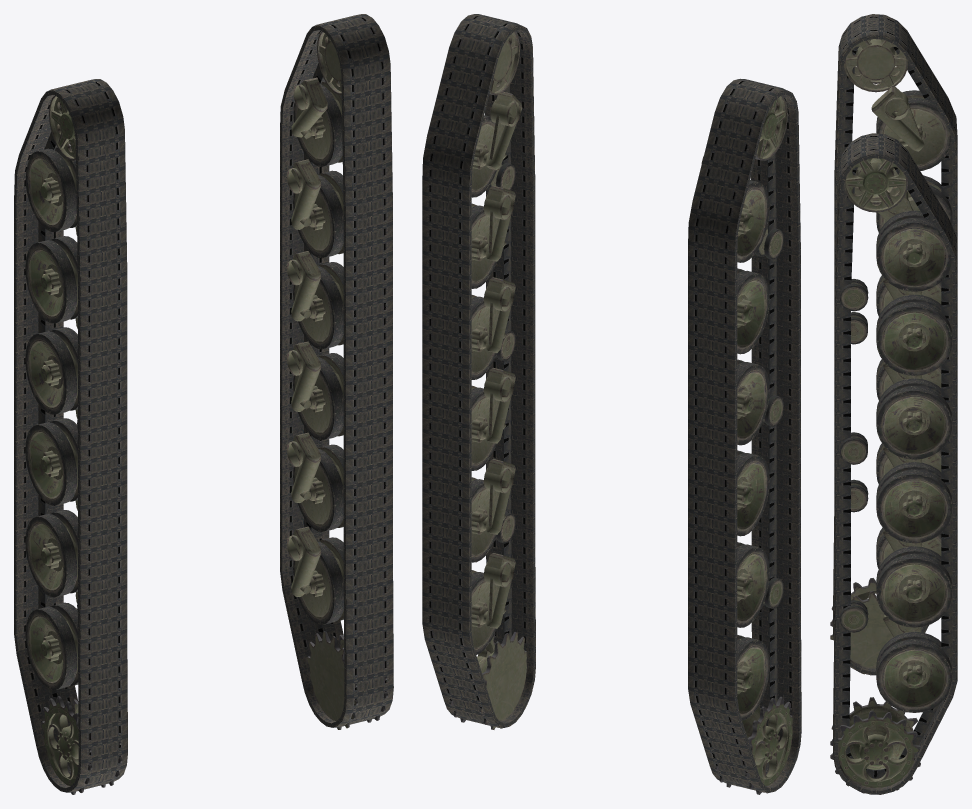
File: Chassis.glb
3 views of the same model, side by side, from view 1: azimuth 30°, elevation 25°; view 2: azimuth 150°, elevation 25°; view 3: azimuth 270°, elevation 25° (orthographic). The views are drawn at different scales.
Parts seen in each view (by area): view 1: set_2_group_0, set_3_group_0, set_0_group_0, set_1_group_0; view 2: set_2_group_0, set_3_group_0, set_0_group_0, set_1_group_0; view 3: set_0_group_0, set_3_group_0, set_1_group_0, set_2_group_0.
Boxes of the visible parts, bbox=[...] form: set_2_group_0: bbox=[14, 79, 127, 792]; set_3_group_0: bbox=[280, 14, 393, 727]; set_0_group_0: bbox=[287, 31, 387, 729]; set_1_group_0: bbox=[25, 96, 122, 794]; set_2_group_0: bbox=[688, 78, 801, 792]; set_3_group_0: bbox=[422, 14, 535, 727]; set_0_group_0: bbox=[449, 31, 526, 729]; set_1_group_0: bbox=[701, 95, 792, 794]; set_0_group_0: bbox=[830, 158, 952, 794]; set_3_group_0: bbox=[833, 133, 957, 794]; set_1_group_0: bbox=[830, 39, 952, 674]; set_2_group_0: bbox=[833, 14, 957, 675].
Bounding box in the file's own units: 2.93 × 6.27 × 1.12.
4 materials, 4 textured.
